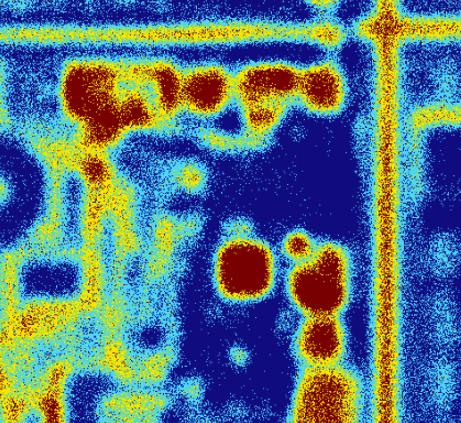Pad 1: (217, 243, 270, 297)
Pad 2: (185, 70, 227, 114), (301, 320, 338, 359), (305, 70, 339, 108)
